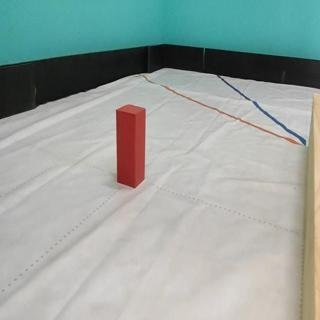redbox: (115, 103, 146, 189)
